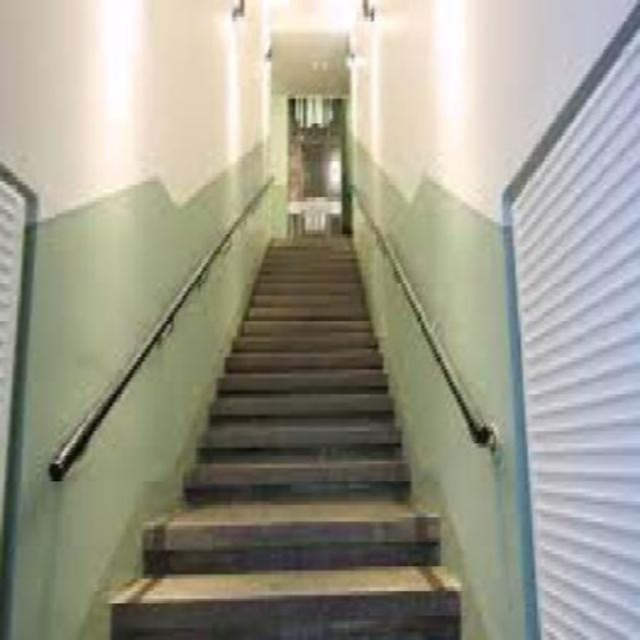stair: (100, 122, 474, 636)
